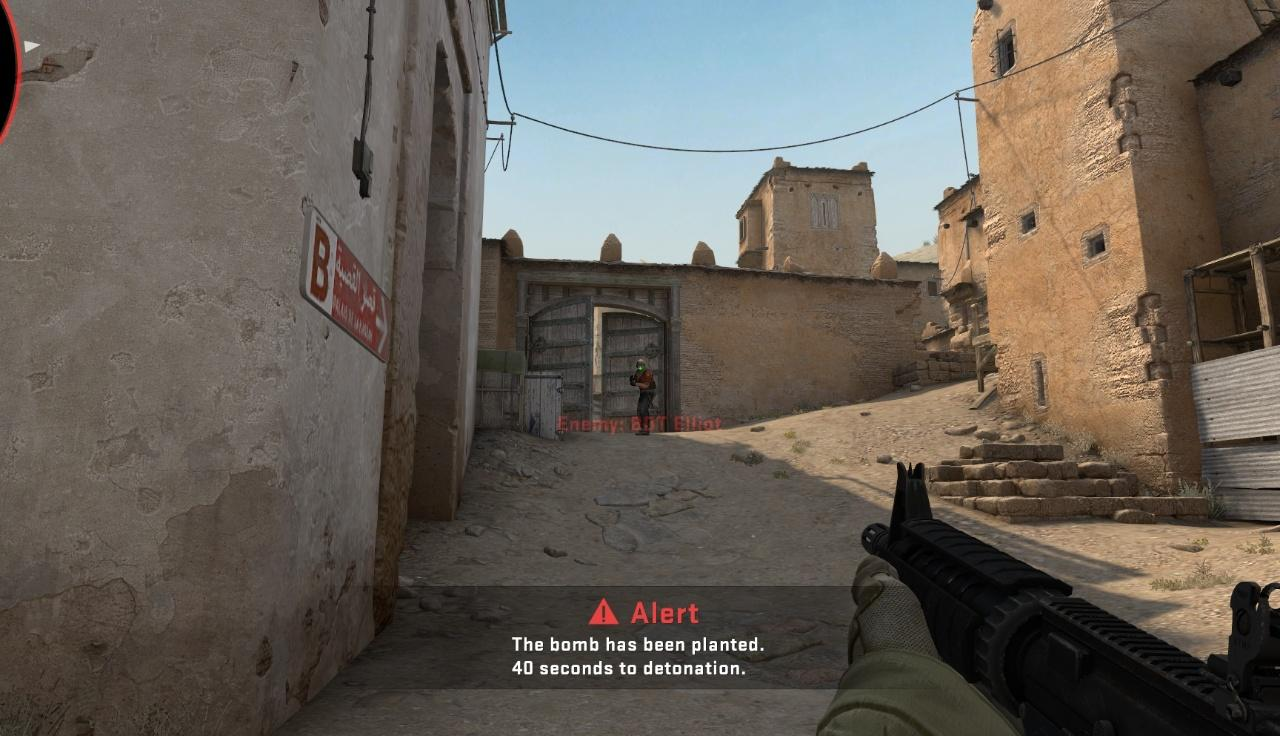rifle: (857, 463, 1280, 736)
tt: (631, 360, 656, 436)
tthead: (637, 360, 646, 374)
